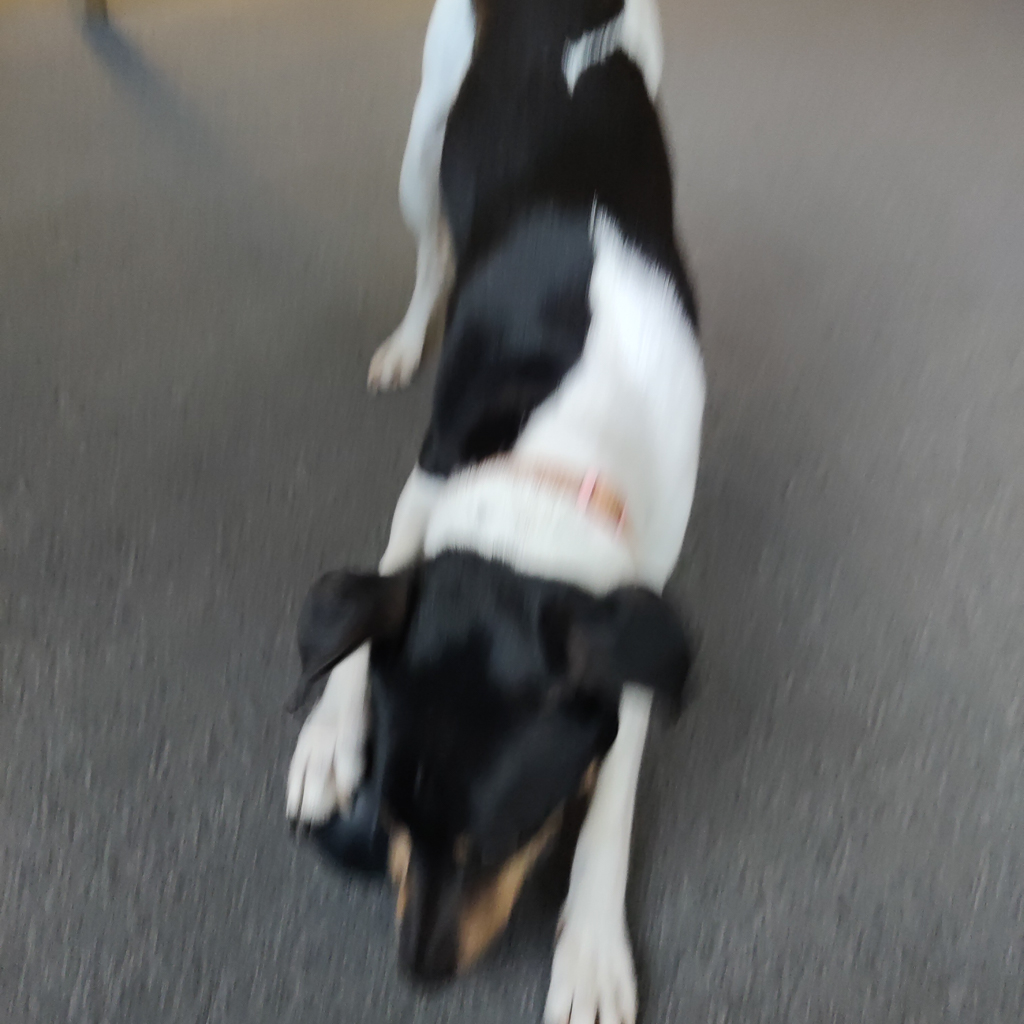Dog: (219, 0, 729, 1024)
